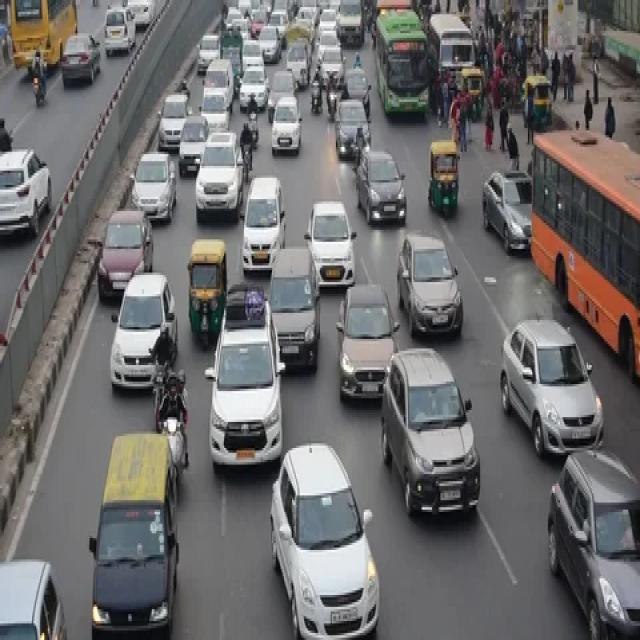Vehicles: (533, 126, 640, 377), (375, 334, 484, 552), (272, 443, 379, 640), (540, 436, 640, 640), (90, 419, 182, 640), (491, 307, 608, 466), (91, 240, 181, 392), (218, 295, 285, 481), (472, 153, 552, 268), (338, 262, 399, 403), (258, 240, 324, 370), (370, 7, 440, 126), (402, 223, 465, 349), (242, 175, 296, 301), (309, 190, 361, 310), (190, 134, 251, 235), (94, 200, 152, 296), (186, 235, 236, 344), (354, 139, 409, 236), (0, 565, 63, 640), (153, 362, 188, 488), (126, 138, 174, 226), (429, 134, 469, 226), (433, 11, 478, 88), (152, 84, 198, 152), (325, 98, 375, 160), (266, 93, 310, 158), (522, 77, 557, 133), (196, 84, 232, 138), (332, 0, 369, 52), (179, 116, 210, 176), (321, 43, 356, 90), (290, 26, 316, 88), (460, 53, 488, 108), (240, 63, 270, 111), (258, 18, 285, 65), (200, 29, 225, 75), (308, 76, 330, 119), (246, 41, 267, 71), (241, 138, 253, 184), (249, 110, 262, 151), (327, 86, 338, 125)
